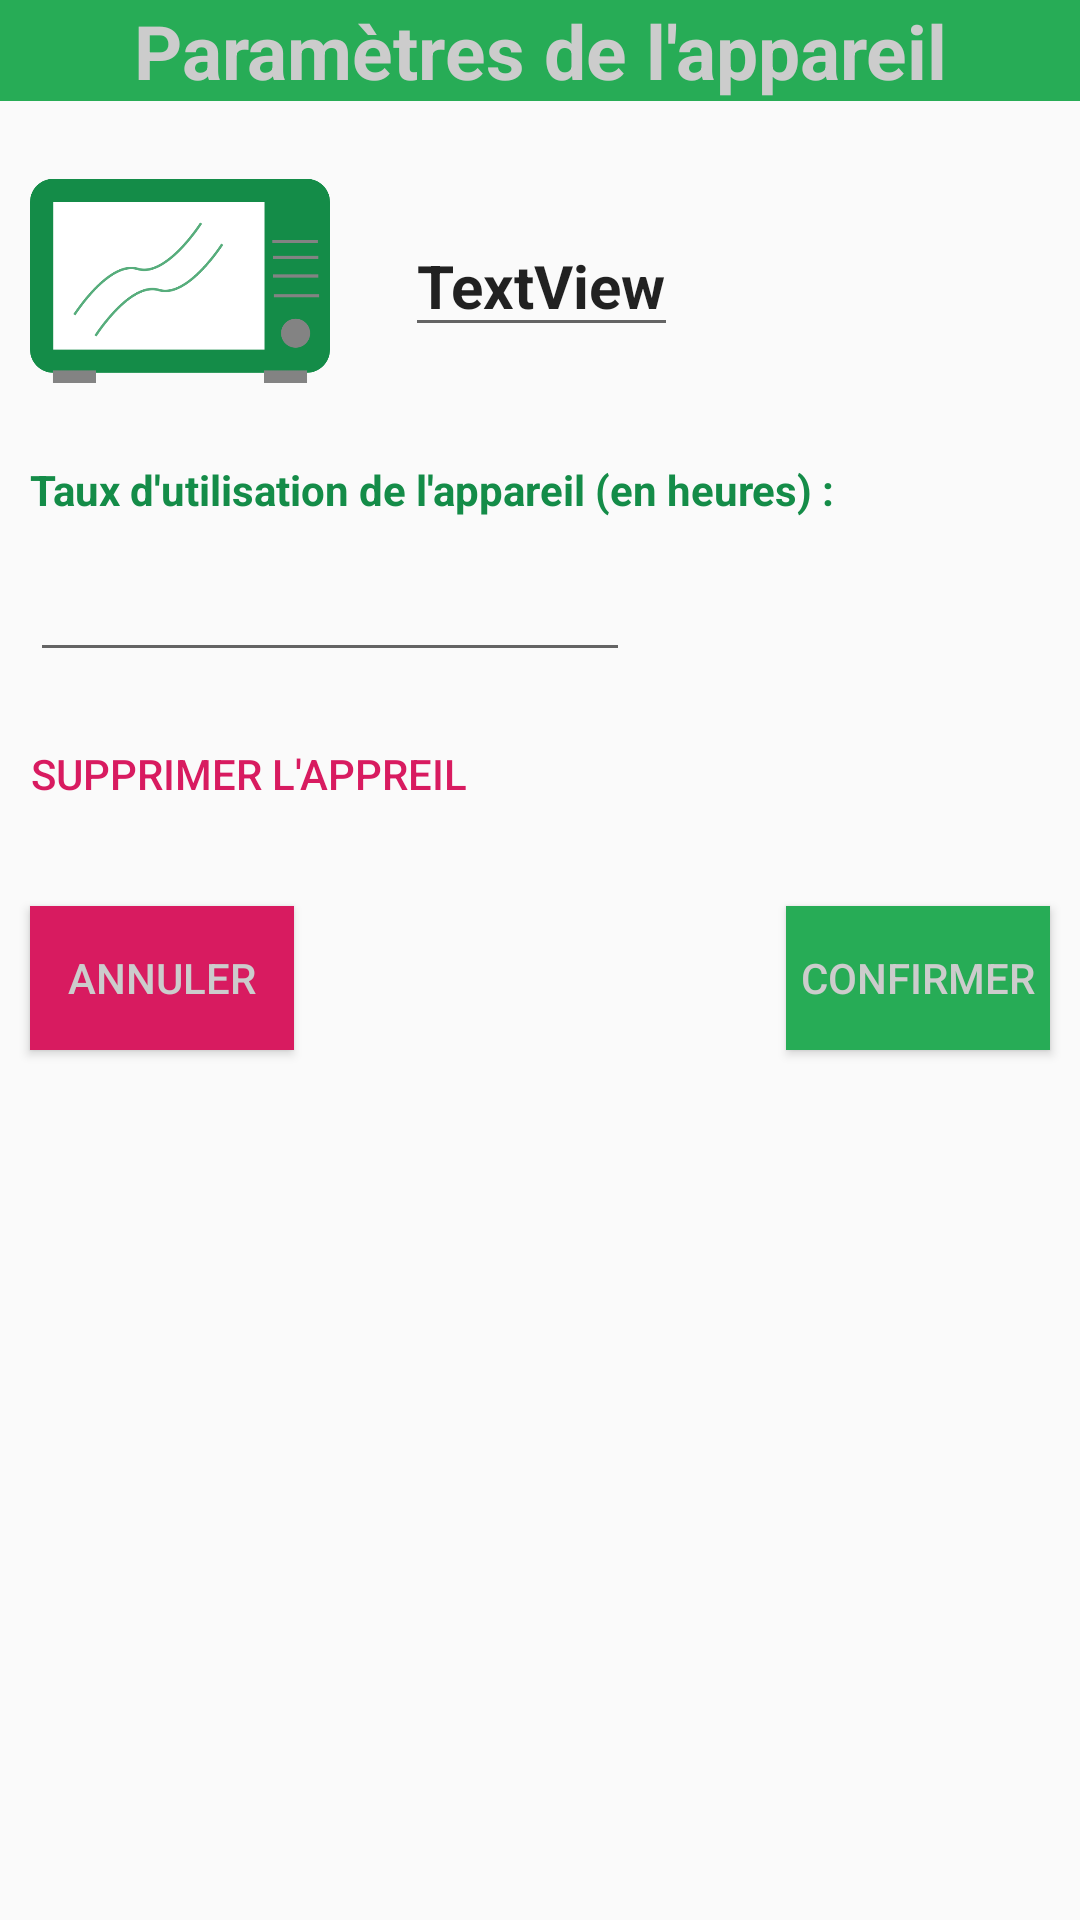

Icon bounding boxes for this 1080×1920 phone screenshot, format (x1, y1, x2, y2):
microwave: (30, 179, 330, 383)
